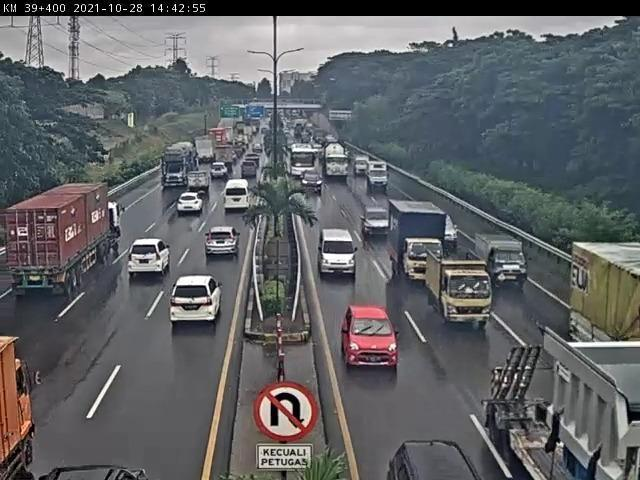bus: (290, 144, 317, 180)
car: (341, 308, 401, 372), (172, 276, 224, 327), (320, 228, 359, 280), (129, 237, 174, 279), (204, 226, 242, 261), (224, 178, 252, 212), (362, 208, 389, 239), (301, 170, 325, 196), (178, 192, 205, 214)
truck: (6, 184, 124, 298), (427, 248, 493, 334), (389, 199, 450, 289), (475, 233, 533, 294), (323, 140, 352, 182), (367, 160, 391, 192), (188, 172, 212, 195), (355, 153, 371, 178)
